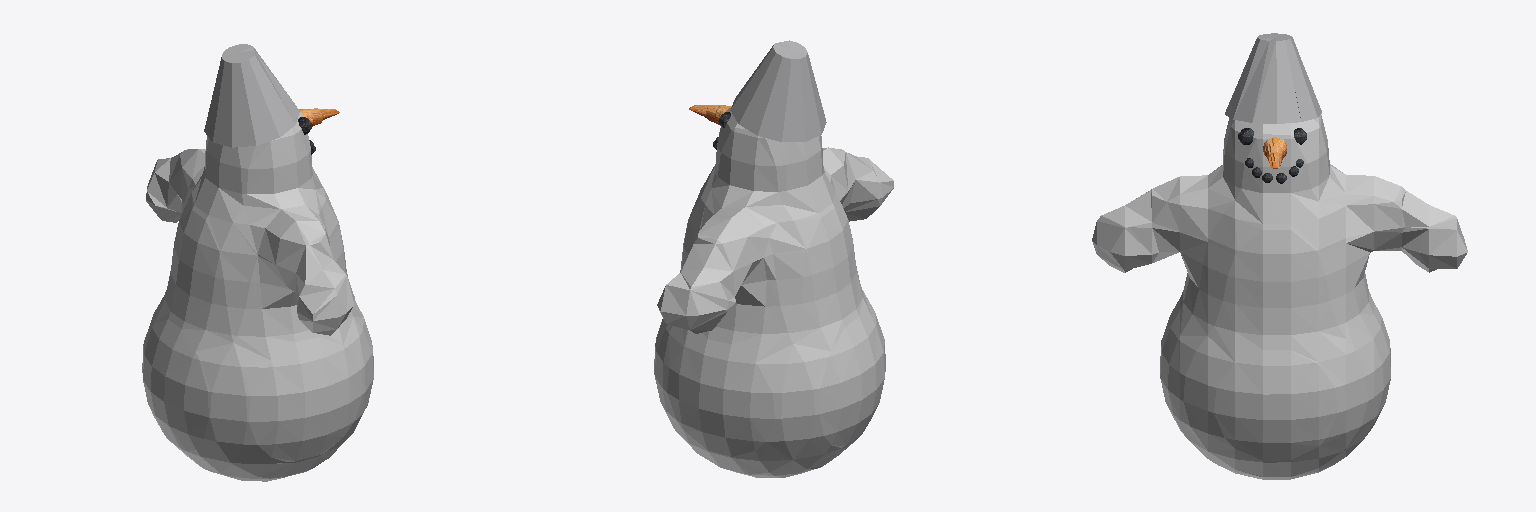
The picture shows the model from 3 angles: view 1: azimuth 30°, elevation 25°; view 2: azimuth 150°, elevation 25°; view 3: azimuth 270°, elevation 25°; orthographic projection.
Parts seen in each view (by area): view 1: МСфера, Куб; view 2: МСфера, Куб; view 3: МСфера, Куб, Сфера.002.
Part boxes in pixels (bbox=[...]): МСфера: bbox=[142, 112, 373, 481]; Куб: bbox=[204, 44, 299, 147]; МСфера: bbox=[654, 107, 893, 477]; Куб: bbox=[730, 40, 826, 141]; МСфера: bbox=[1092, 115, 1467, 479]; Куб: bbox=[1225, 33, 1321, 123]; Сфера.002: bbox=[1263, 137, 1286, 168].
Size of the model in its own units: 2.28 by 4.62 by 3.71.
Materials: 4 (3 with a texture image).